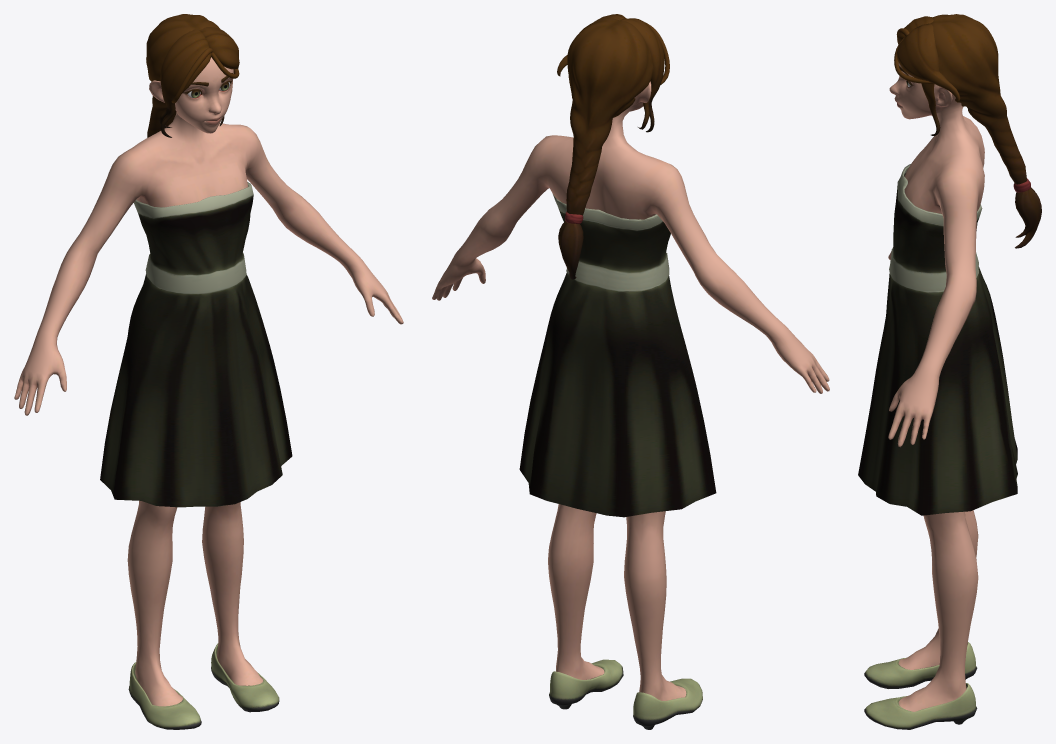
Rendered from Gloria_Mesh.obj.
3 views of the same model, side by side, from view 1: azimuth 30°, elevation 25°; view 2: azimuth 150°, elevation 25°; view 3: azimuth 270°, elevation 25° (orthographic). The views are drawn at different scales.
Visible parts, largest first — view 1: Gloria_Mesh_0; view 2: Gloria_Mesh_0; view 3: Gloria_Mesh_0.
Boxes of the visible parts, x1,y1,x2,y2 form: Gloria_Mesh_0: (14,14,403,729); Gloria_Mesh_0: (432,14,829,729); Gloria_Mesh_0: (858,14,1041,729).
Bounding box in the file's own units: 1.06 × 1.8 × 0.4399.
1 material, 1 textured.
